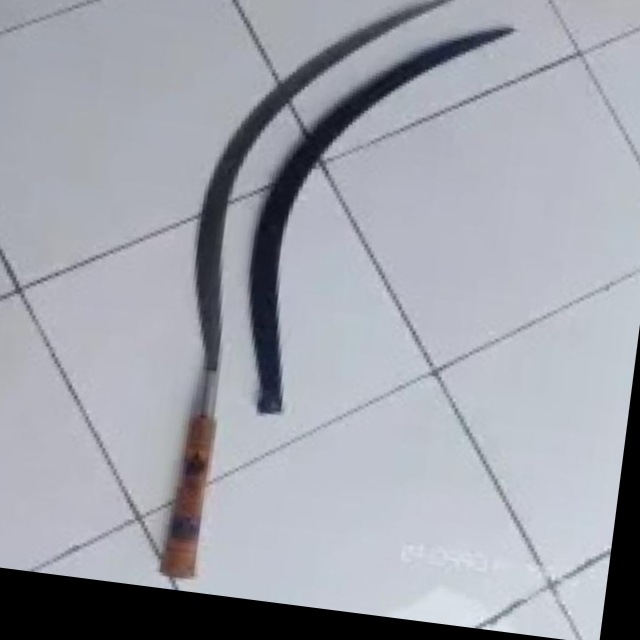Sharp-Object: (138, 0, 470, 600)
